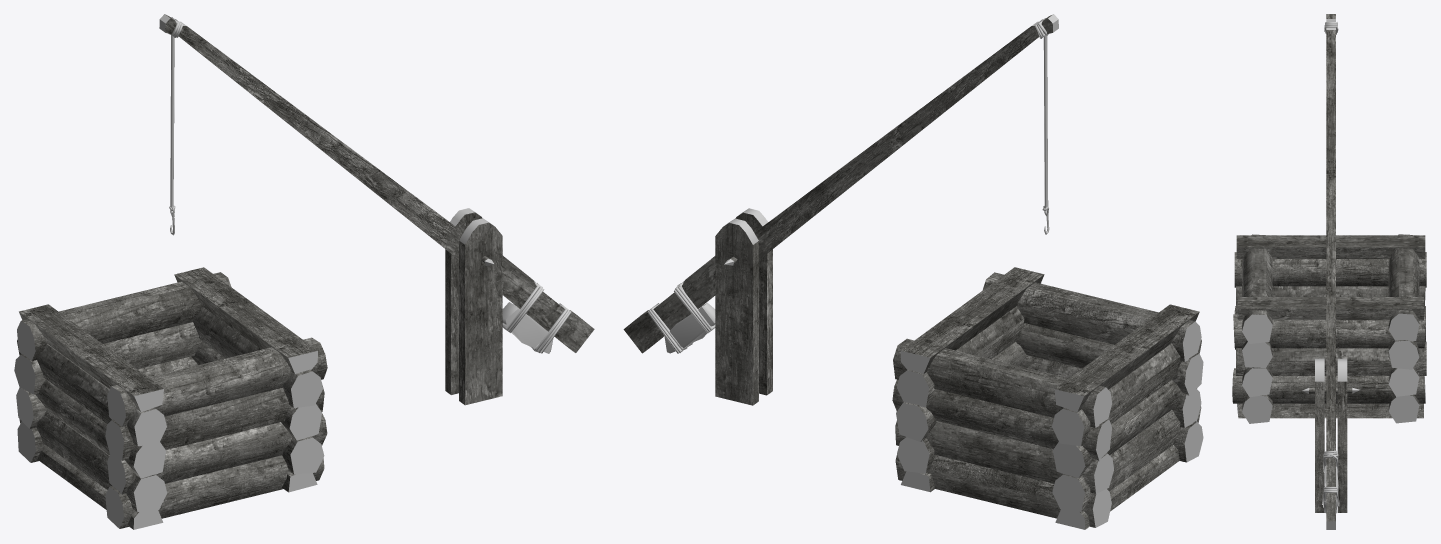
The model's file is mw_type_3_well_01.FBX.
3 renders of one model, left to right at view 1: azimuth 30°, elevation 25°; view 2: azimuth 150°, elevation 25°; view 3: azimuth 270°, elevation 25°, orthographic. The views are drawn at different scales.
Visible parts, largest first — view 1: mw_type_3_well_01; view 2: mw_type_3_well_01; view 3: mw_type_3_well_01.
Boxes of the visible parts, <box> form: mw_type_3_well_01: <box>14,14,594,529</box>; mw_type_3_well_01: <box>623,14,1203,529</box>; mw_type_3_well_01: <box>1232,14,1426,529</box>.
Size of the model in its own units: 640 by 529 by 252.
